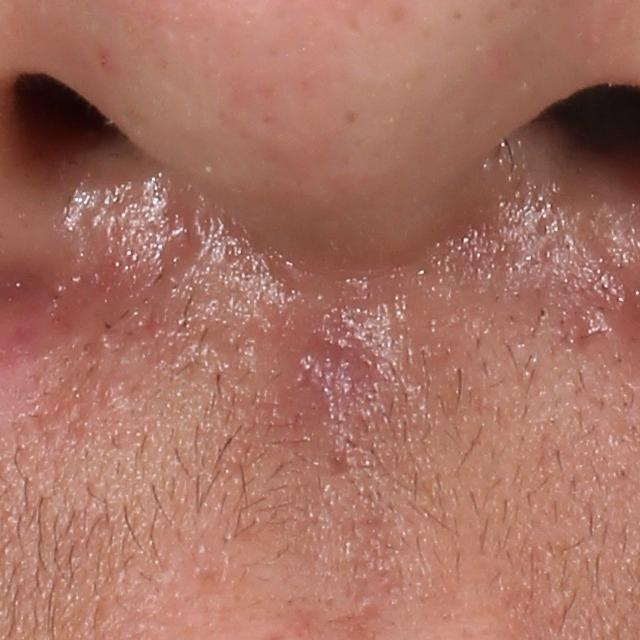atrophic_scar: (573, 316, 614, 349)
